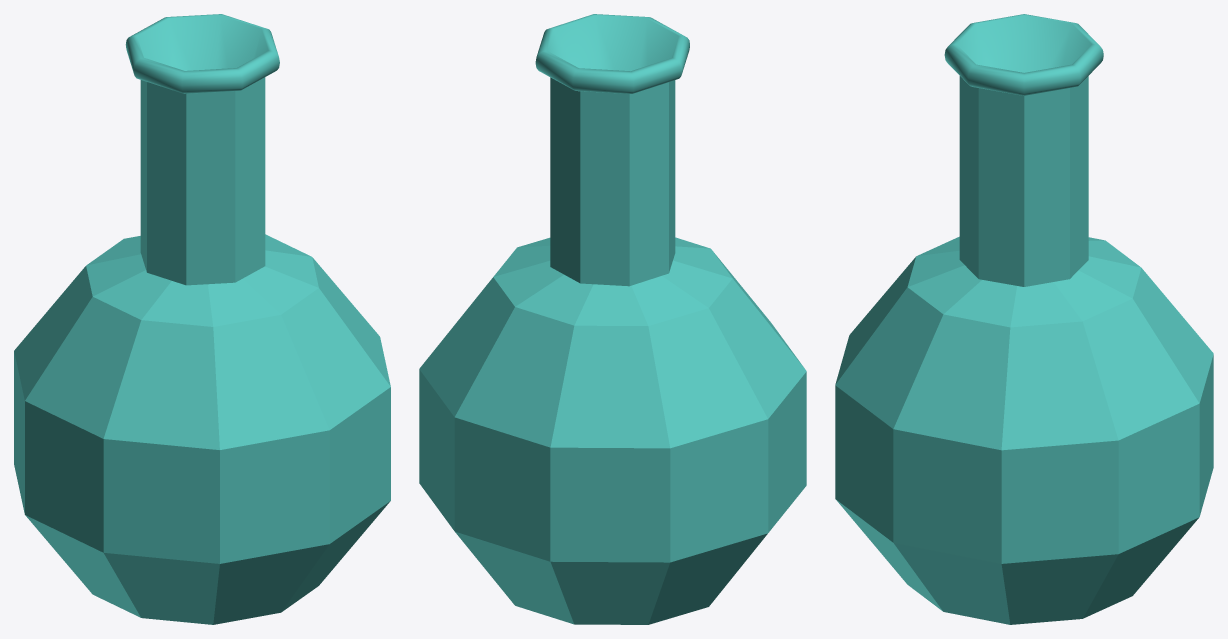
Rendered from Matraz.fbx.
3 views of the same model, side by side, from view 1: azimuth 30°, elevation 25°; view 2: azimuth 150°, elevation 25°; view 3: azimuth 270°, elevation 25° (orthographic).
Visible parts, largest first — view 1: Sphere001, Cylinder021; view 2: Sphere001, Cylinder021; view 3: Sphere001, Cylinder021.
Part boxes in pixels (x1,y1,x2,y2): Sphere001: [14, 234, 390, 624]; Cylinder021: [125, 14, 279, 285]; Sphere001: [419, 237, 806, 624]; Cylinder021: [535, 14, 689, 286]; Sphere001: [835, 236, 1213, 624]; Cylinder021: [944, 14, 1103, 286].
Bounding box in the file's own units: 24.52 × 39.96 × 24.22.
Materials: 1 (1 with a texture image).
